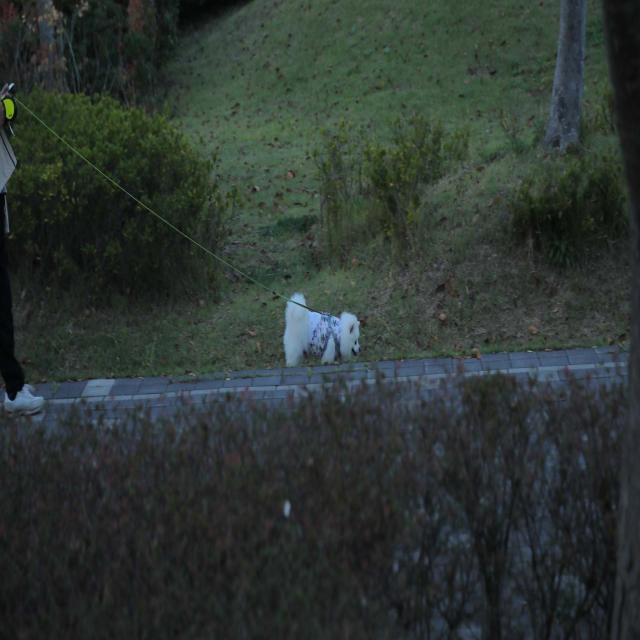Leashed_Dog: (0, 88, 362, 368)
